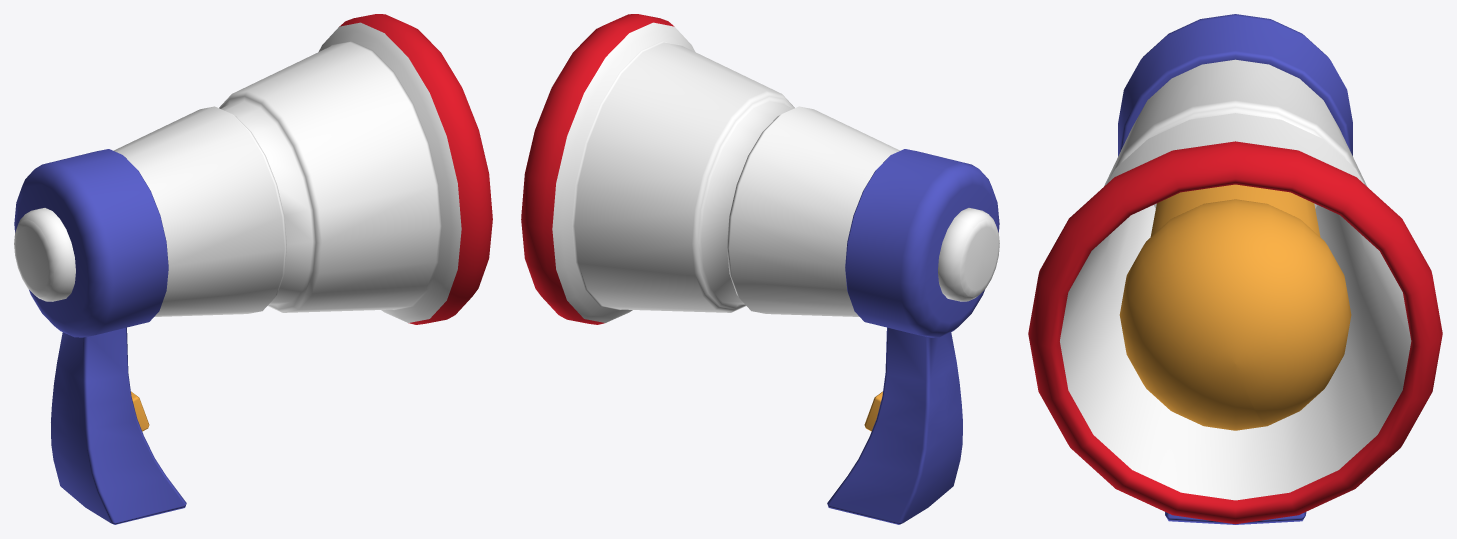
The model's file is mega_colored1.glb.
3 renders of one model, left to right at view 1: azimuth 30°, elevation 25°; view 2: azimuth 150°, elevation 25°; view 3: azimuth 270°, elevation 25°, orthographic. The views are drawn at different scales.
Parts seen in each view (by area): view 1: pCube1; view 2: pCube1; view 3: pCube1.
Part boxes in pixels (x1,y1,x2,y2): pCube1: (14, 14, 492, 524); pCube1: (521, 14, 999, 524); pCube1: (1028, 14, 1442, 524).
Bounding box in the file's own units: 2.2 × 2.07 × 1.46.
